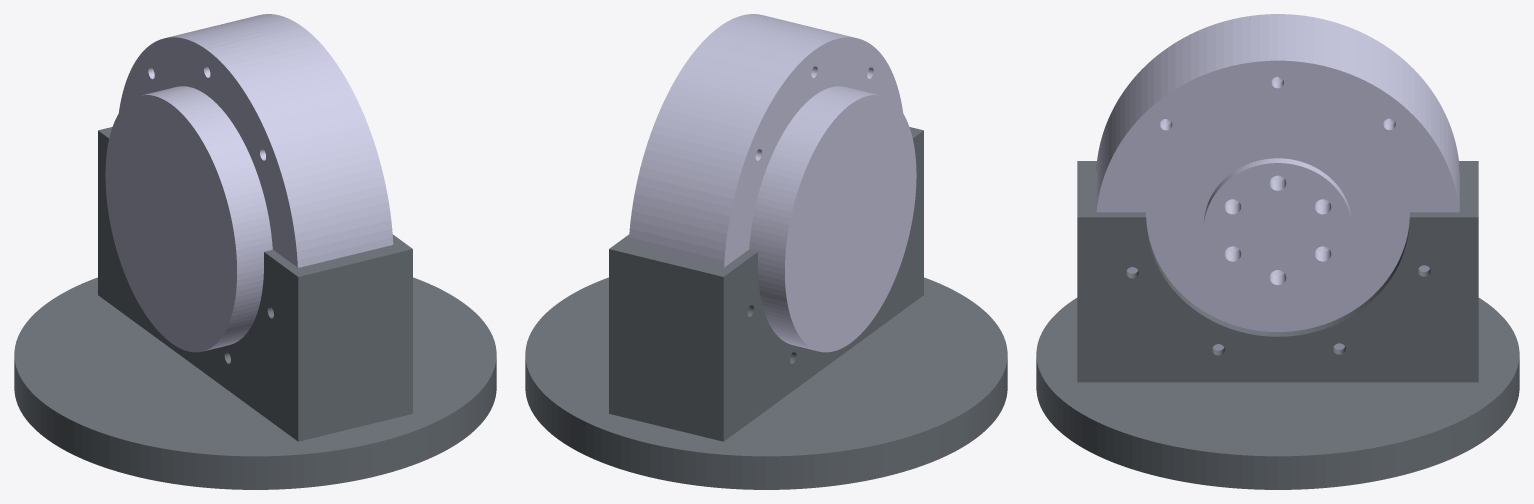
3 renders of one model, left to right at view 1: azimuth 30°, elevation 25°; view 2: azimuth 150°, elevation 25°; view 3: azimuth 270°, elevation 25°, orthographic.
Parts seen in each view (by area): view 1: node1, node0; view 2: node1, node0; view 3: node1, node0.
Boxes of the visible parts, x1,y1,x2,y2 form: node1: [14, 127, 496, 489]; node0: [105, 14, 393, 352]; node1: [525, 127, 1007, 489]; node0: [628, 14, 916, 352]; node1: [1036, 161, 1519, 489]; node0: [1096, 14, 1459, 350].
Bounding box in the file's own units: 0.13 × 0.13 × 0.104.
